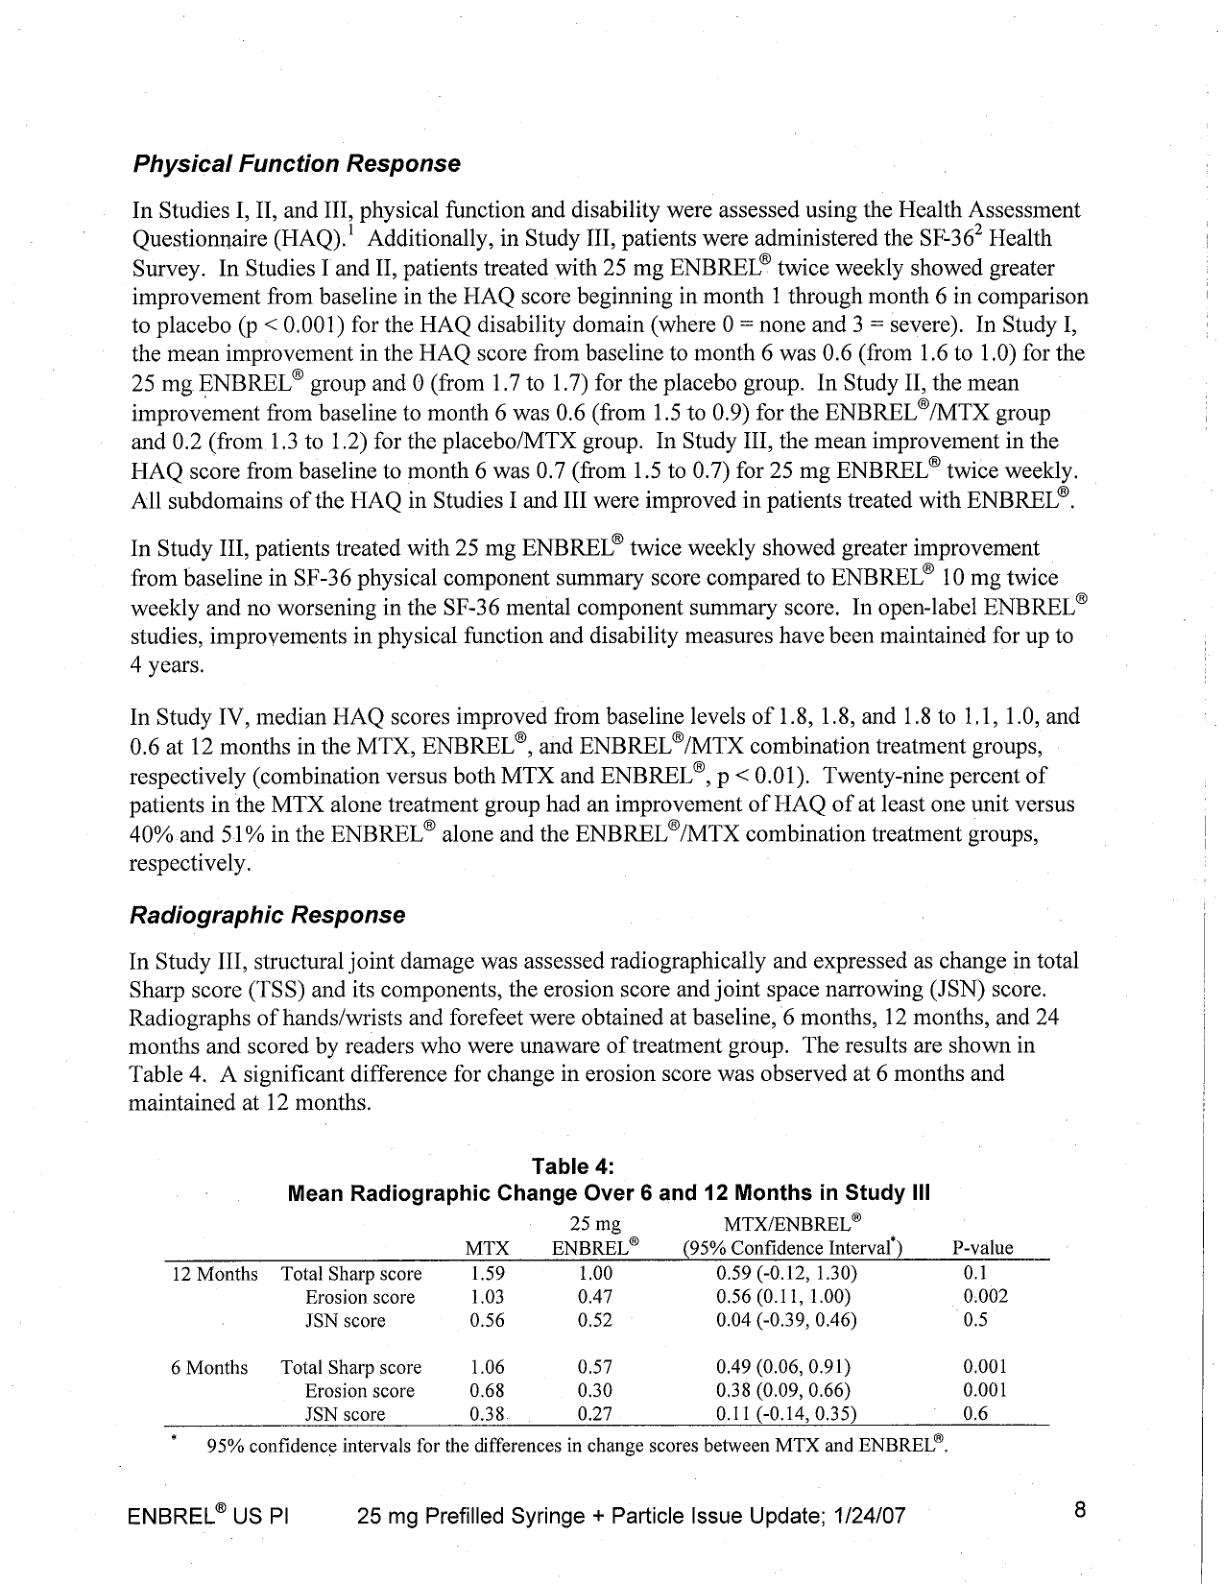partial_lined: (162, 1212, 1050, 1428)
